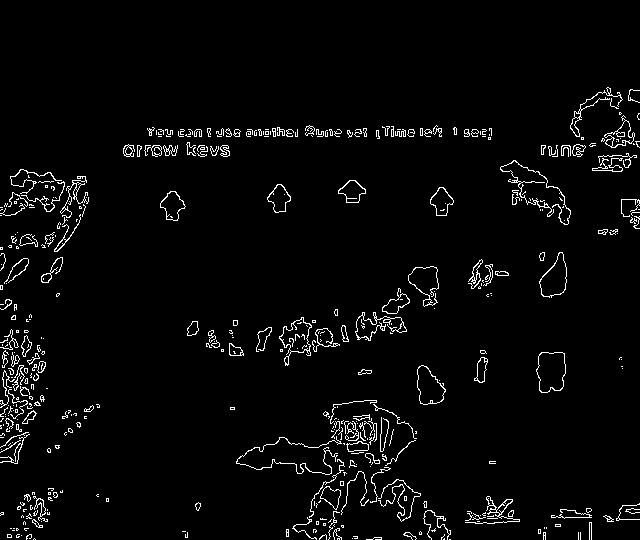up: (259, 176, 302, 223), (153, 186, 193, 228), (332, 174, 376, 212), (423, 182, 463, 222)
